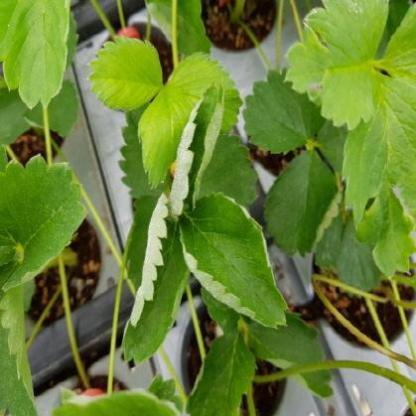Strawberry_Powdery_Mildew_Leaf: (178, 192, 290, 330), (283, 0, 391, 131), (120, 190, 192, 368), (167, 80, 226, 222)
